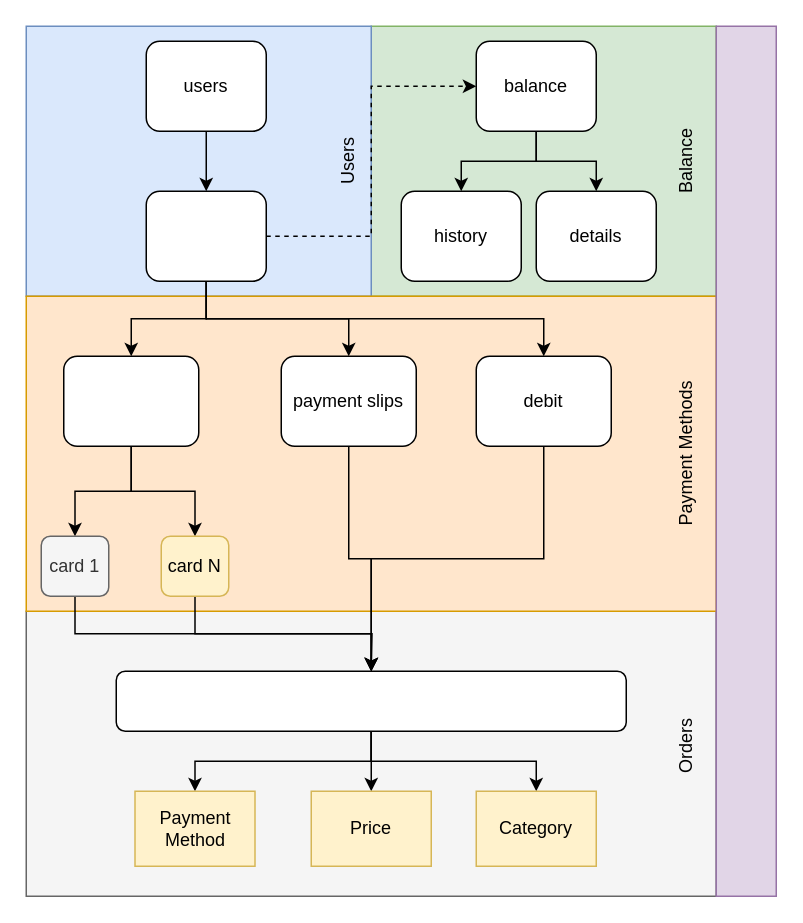
This 803x923 diagram has some shape labels left out. Here are the shapes that lost their labels. From the top down, the centre of each, then its label:
the point at 205,235: user {id}
the point at 130,400: credit-cards
the point at 745,460: Dashboards and Views
the point at 370,700: Payment Order
